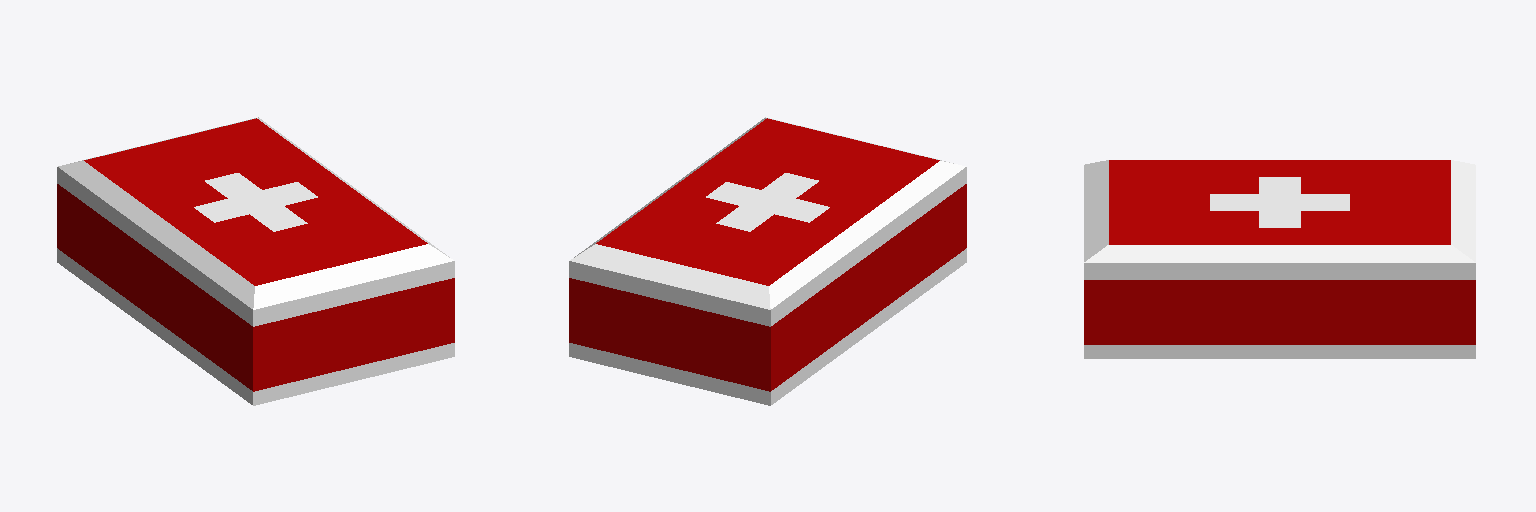
File: MEDICBAG.obj
3 views of the same model, side by side, from view 1: azimuth 30°, elevation 25°; view 2: azimuth 150°, elevation 25°; view 3: azimuth 270°, elevation 25° (orthographic).
Size of the model in its own units: 2.49 by 1.27 by 4.19.